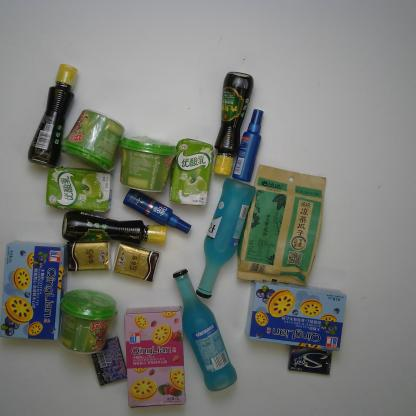Alcohol: (172, 268, 238, 392), (195, 177, 257, 299)
Dessert: (244, 279, 347, 352), (0, 239, 66, 340), (124, 305, 187, 408)
Dried Food: (235, 164, 327, 286)
Gum: (90, 335, 128, 386), (286, 344, 332, 376)
Instant Drink: (60, 107, 126, 172), (58, 288, 118, 356), (117, 134, 178, 193)
Milk: (45, 165, 114, 214), (168, 138, 214, 208)
Personal Hygiene: (122, 188, 192, 235), (231, 109, 264, 182)
Seasoner: (27, 64, 78, 168), (212, 71, 255, 177), (61, 210, 168, 246)
Tissue: (112, 242, 160, 283), (65, 240, 111, 272)
